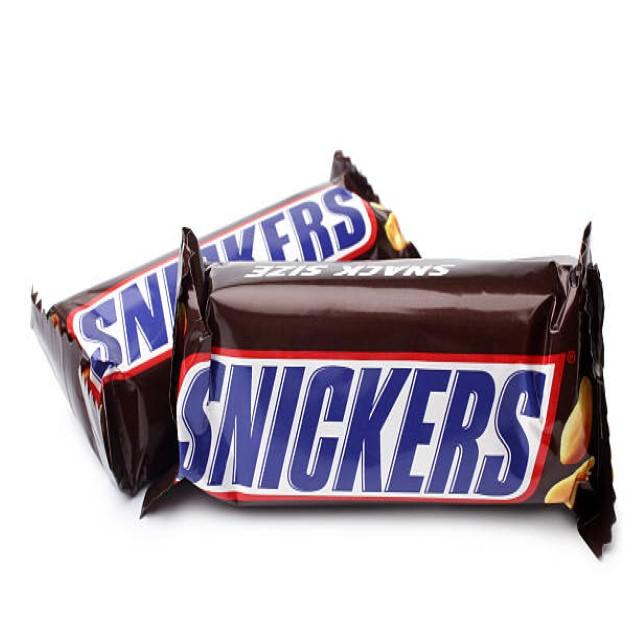snickers_chocolate: (32, 162, 433, 483), (165, 252, 612, 523)
